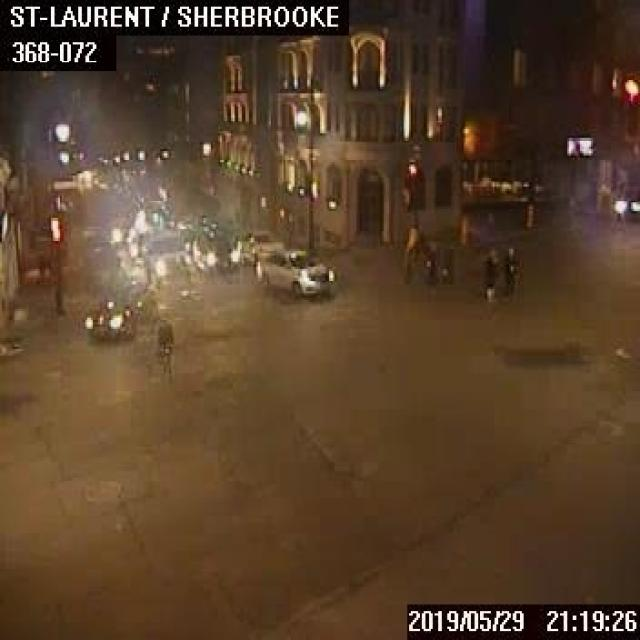construction: (522, 201, 533, 227)
cyclist: (156, 313, 172, 379)
pedestrian: (402, 222, 432, 279), (500, 246, 522, 302), (478, 247, 498, 300)
vehicle: (253, 245, 333, 294), (140, 227, 188, 282), (82, 296, 133, 338), (191, 229, 236, 272), (238, 229, 282, 265), (609, 189, 638, 220)
